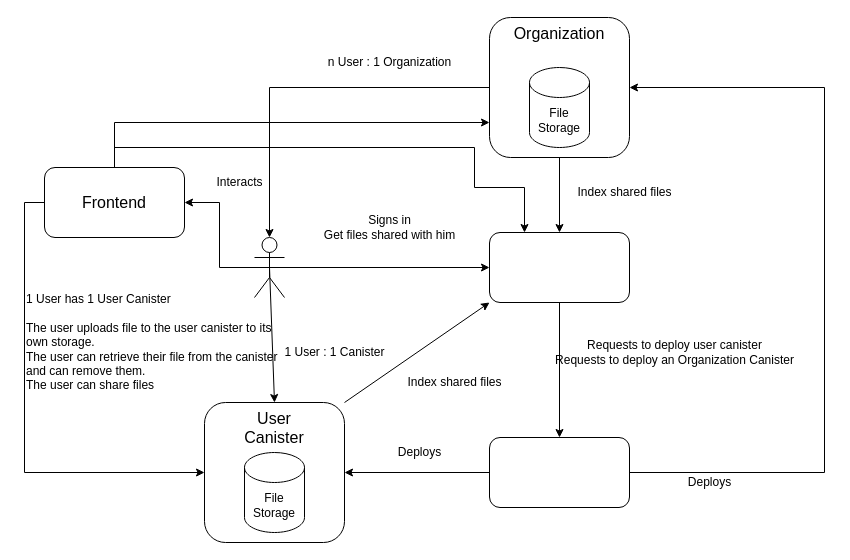
Some shapes in this 850 by 560 pixel diagram are drawn without their labels. Each missing label, with the centre of its shape:
"Orbit Station" belongs at [559,472].
"Orchestrator Canister" belongs at [559,267].
"User" belongs at [269,267].
